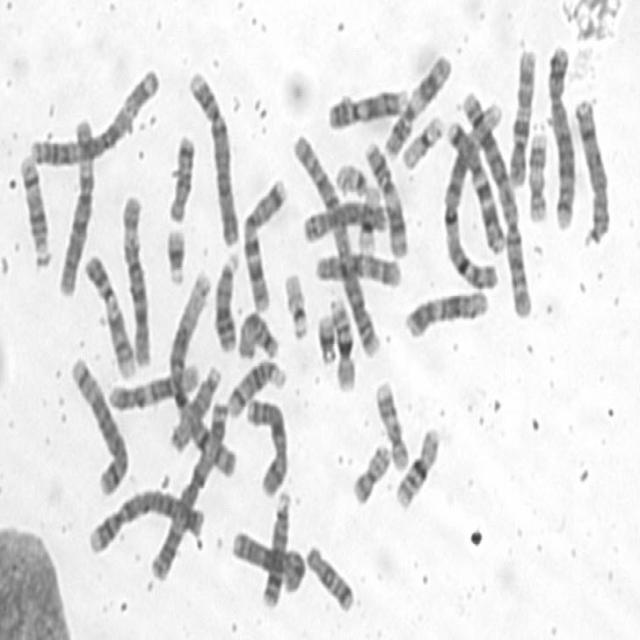A1: (164, 262, 238, 479), (438, 98, 506, 294)
A2: (288, 126, 384, 361), (458, 85, 535, 317)
A3: (148, 390, 230, 582), (24, 59, 162, 168)
B4: (185, 63, 242, 248), (86, 480, 208, 558)
B5: (66, 348, 132, 499), (544, 37, 578, 232)
C10: (505, 39, 539, 188), (310, 244, 404, 290)
C11: (379, 47, 453, 160), (360, 134, 410, 259)
C12: (105, 353, 203, 412), (402, 284, 491, 340)
C6: (52, 109, 96, 298), (117, 186, 154, 369)
C7: (441, 114, 508, 256), (238, 169, 290, 315)
C8: (569, 89, 613, 248), (298, 192, 389, 244)
C9: (81, 246, 139, 380), (324, 78, 410, 132)
D13: (256, 484, 292, 610), (210, 244, 243, 354)
D14: (16, 147, 54, 270), (224, 352, 288, 420)
D15: (164, 358, 223, 453), (234, 304, 281, 362)
E16: (391, 418, 443, 511), (325, 289, 359, 393)
E17: (372, 373, 411, 473), (524, 125, 550, 223)
E18: (302, 538, 357, 616), (164, 126, 198, 225)
F19: (398, 107, 447, 170), (354, 182, 382, 255)
F20: (348, 434, 394, 507)
G21: (162, 220, 189, 286), (313, 306, 338, 366)
G22: (280, 263, 311, 341), (332, 155, 370, 199)
X: (227, 524, 307, 596), (242, 390, 292, 499)
